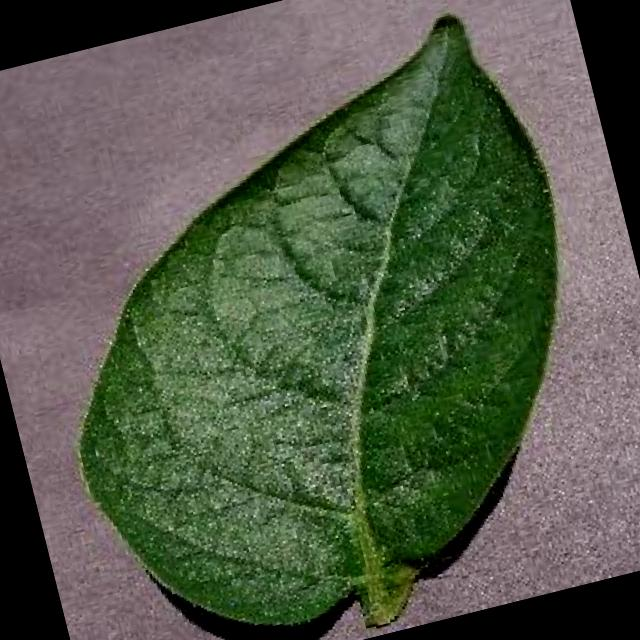healthy: (79, 21, 554, 624)
